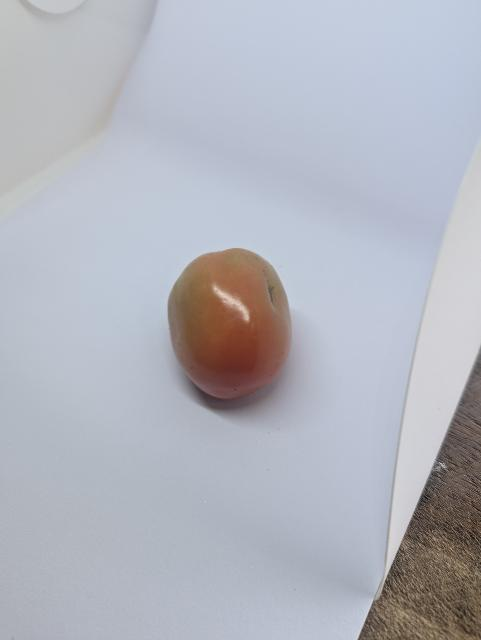turning: (163, 247, 303, 404)
